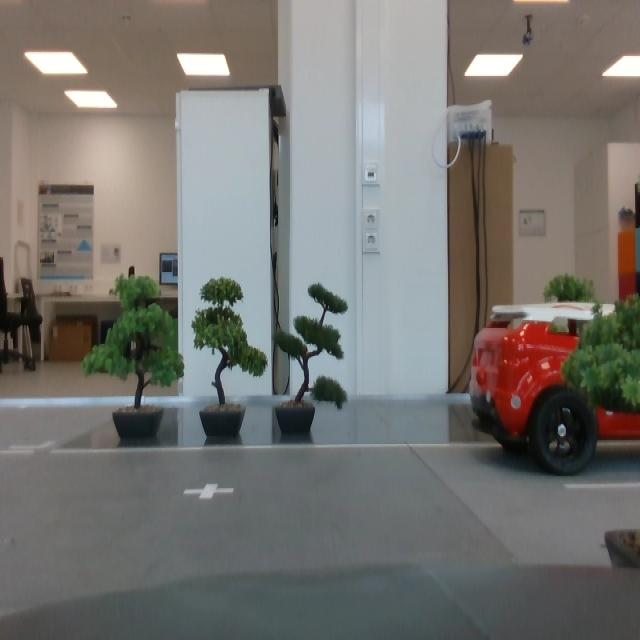car: (469, 301, 640, 476)
potted plant: (82, 272, 185, 440), (191, 276, 268, 437), (272, 281, 349, 434), (561, 292, 640, 414), (542, 273, 599, 407)
